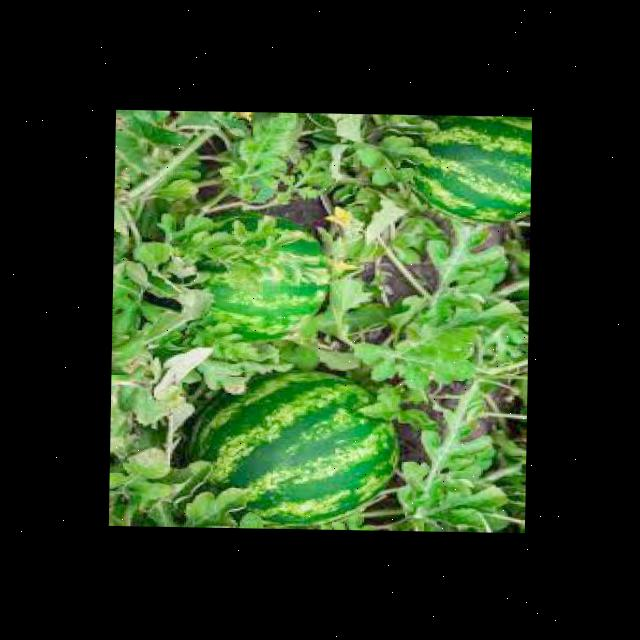watermelon: (187, 367, 401, 527), (186, 209, 331, 340), (406, 114, 532, 222)
